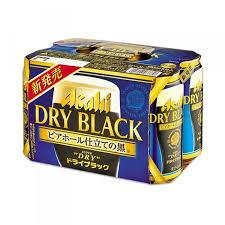beer: (22, 39, 204, 183)
